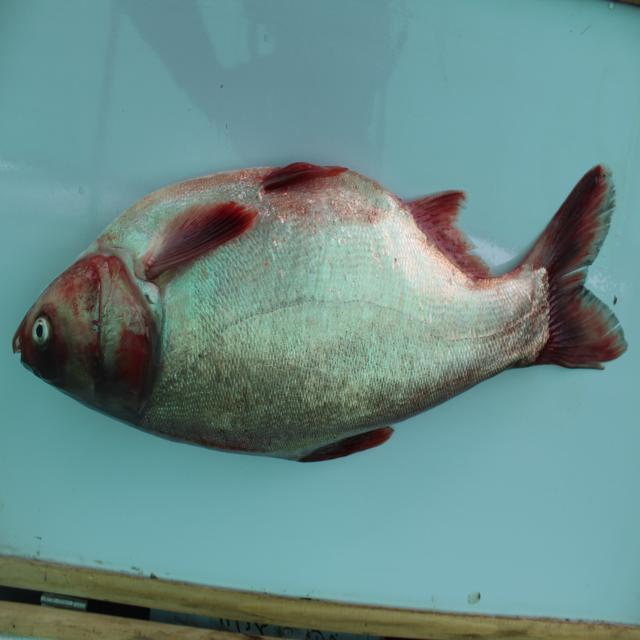SilverCarp: (10, 156, 640, 458)
